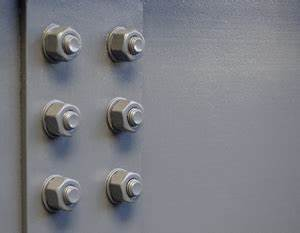bolt_b: (43, 99, 83, 139), (42, 25, 84, 63), (109, 25, 146, 63), (44, 175, 82, 212), (109, 98, 145, 133), (108, 168, 144, 203)
